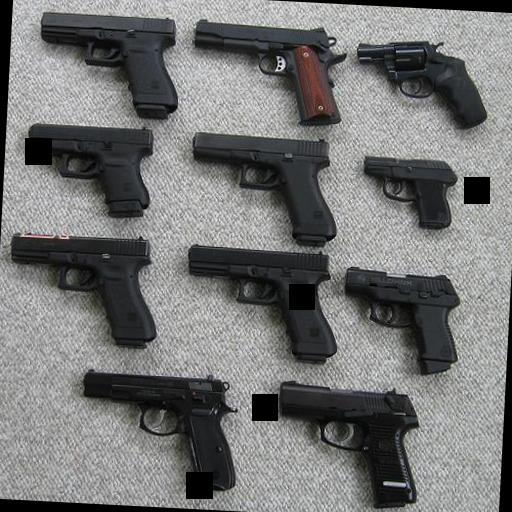Handgun: (74, 366, 241, 492), (270, 377, 422, 510), (182, 242, 340, 364), (3, 226, 159, 349), (340, 264, 464, 376)
